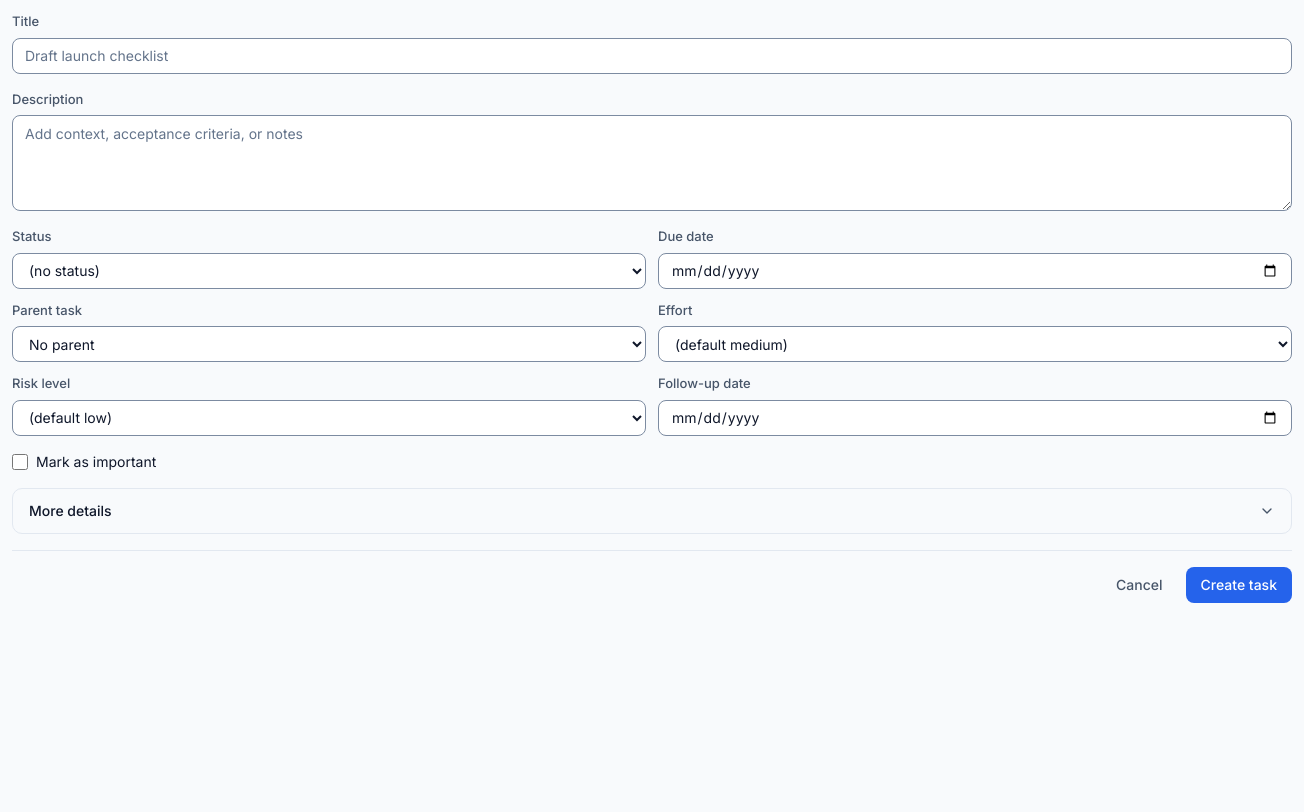
Scenario: TaskCreateForm cross-field validation › blocks submit when risk level is High without a risk reason
The width and height of the screenshot is (1304, 812).
Type "Ship release" into the field labelled "Title". click: (652, 56)
box: [12,38,1292,74]
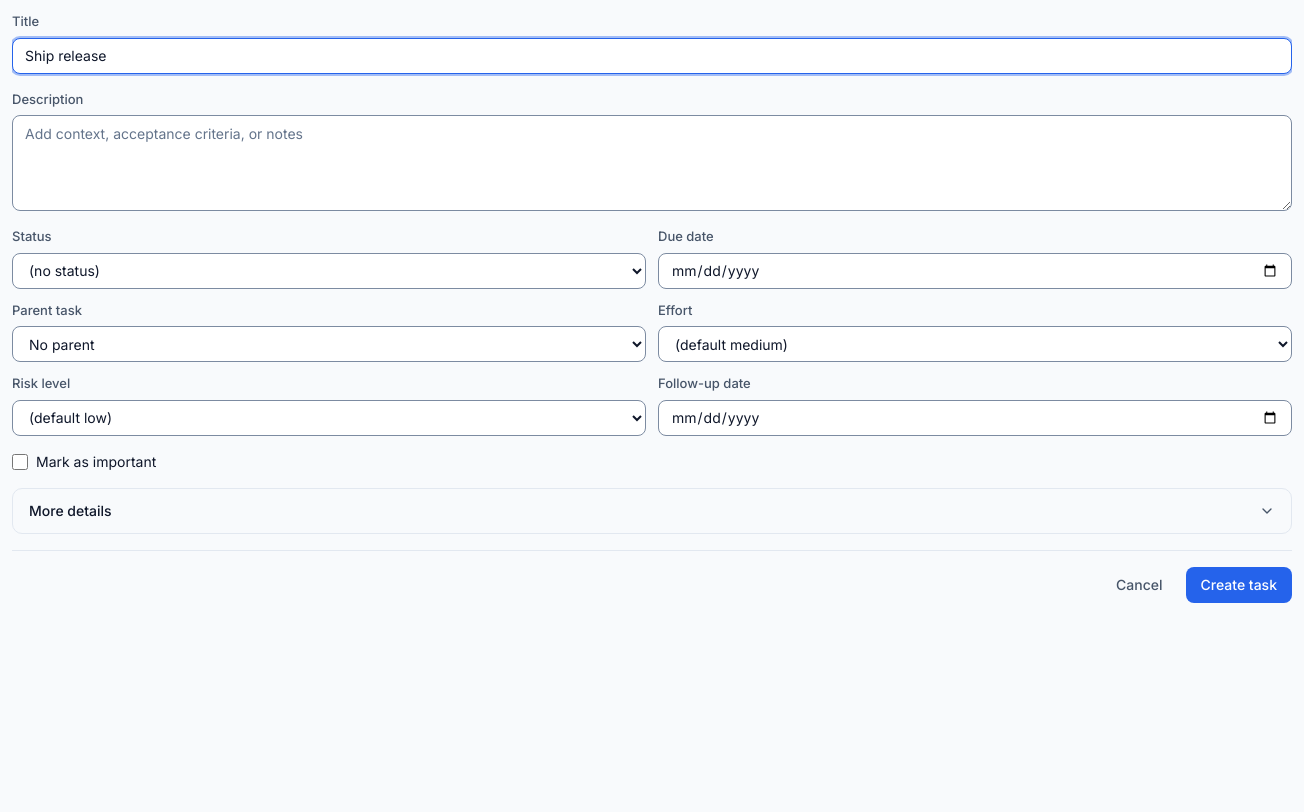
Select "High" in the dropdown labelled "Risk level". click: (329, 418)
box: [12,400,646,436]
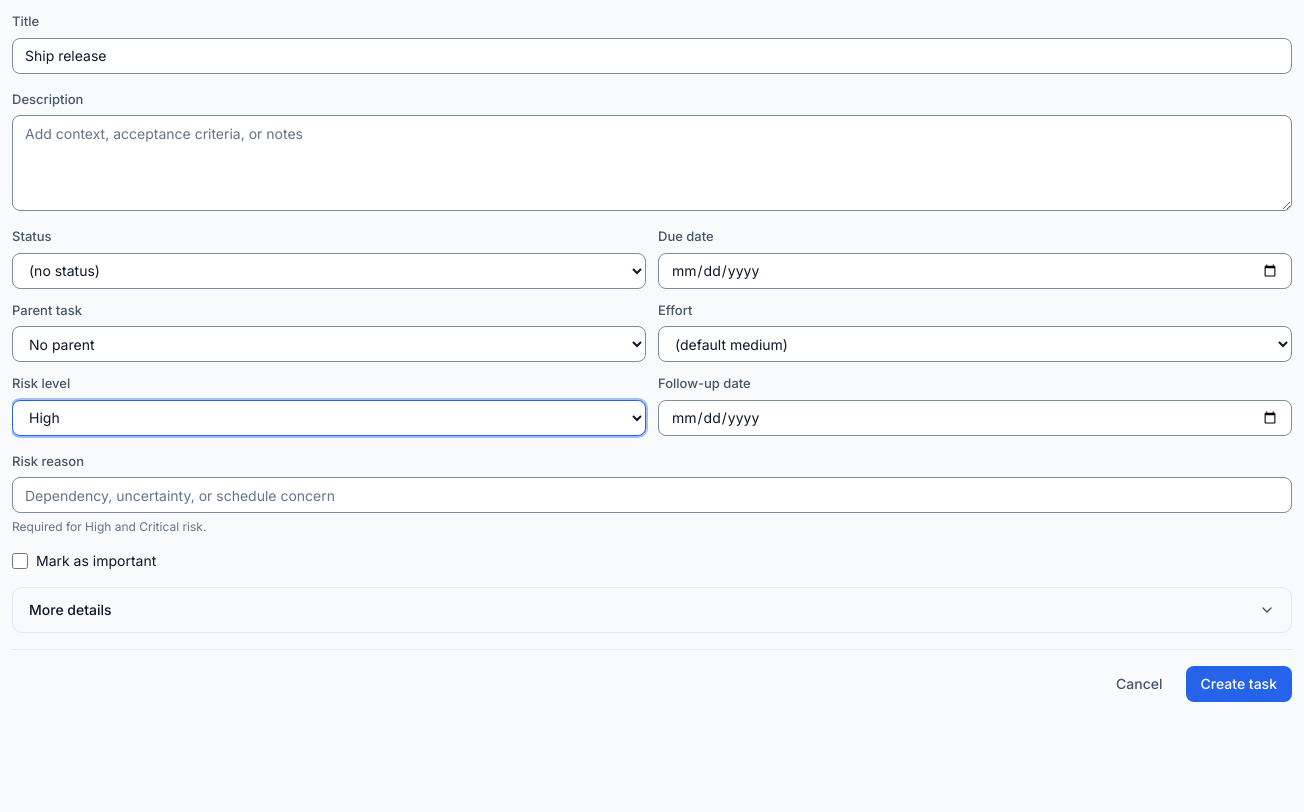
Click the button "Create task". click: (1239, 684)
box: [1186,666,1292,702]
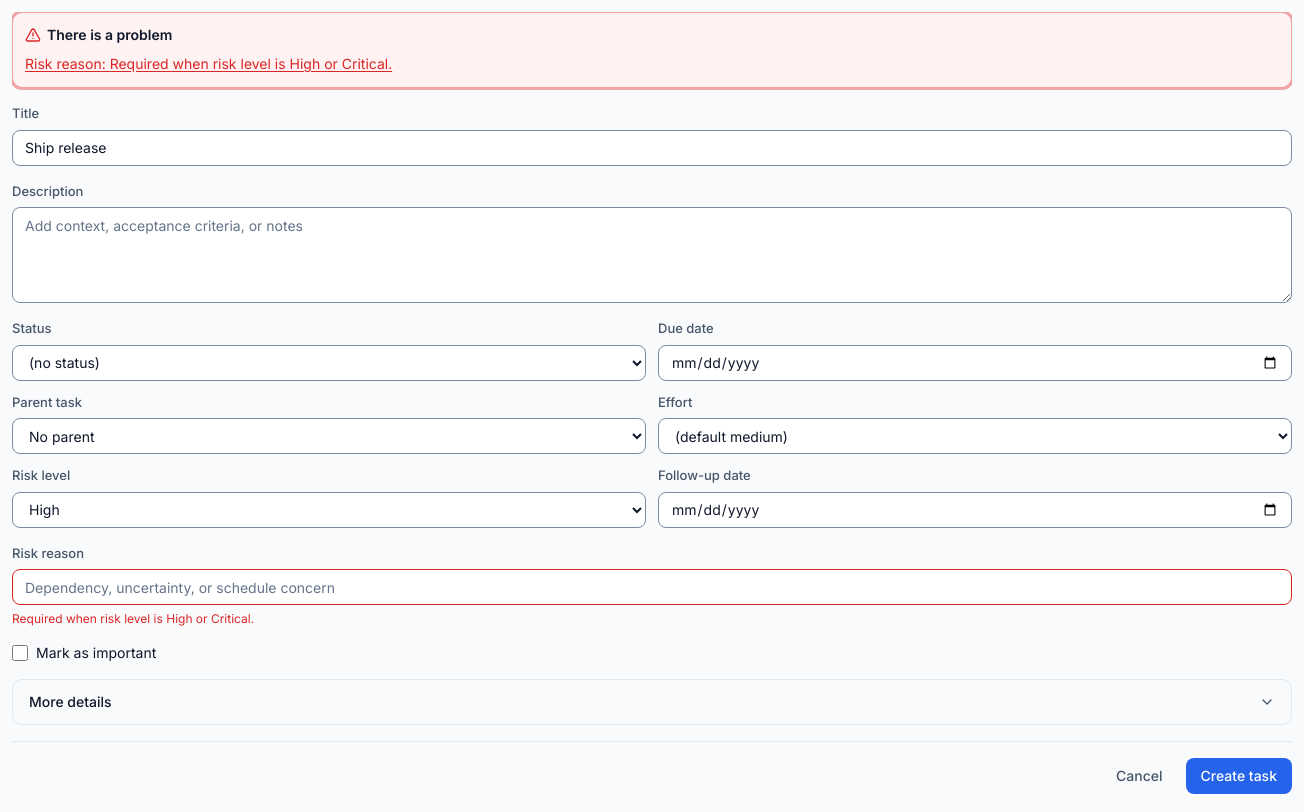
Expected: the text "Required when risk level is High or Critical." is shown, [12,611,254,626]
